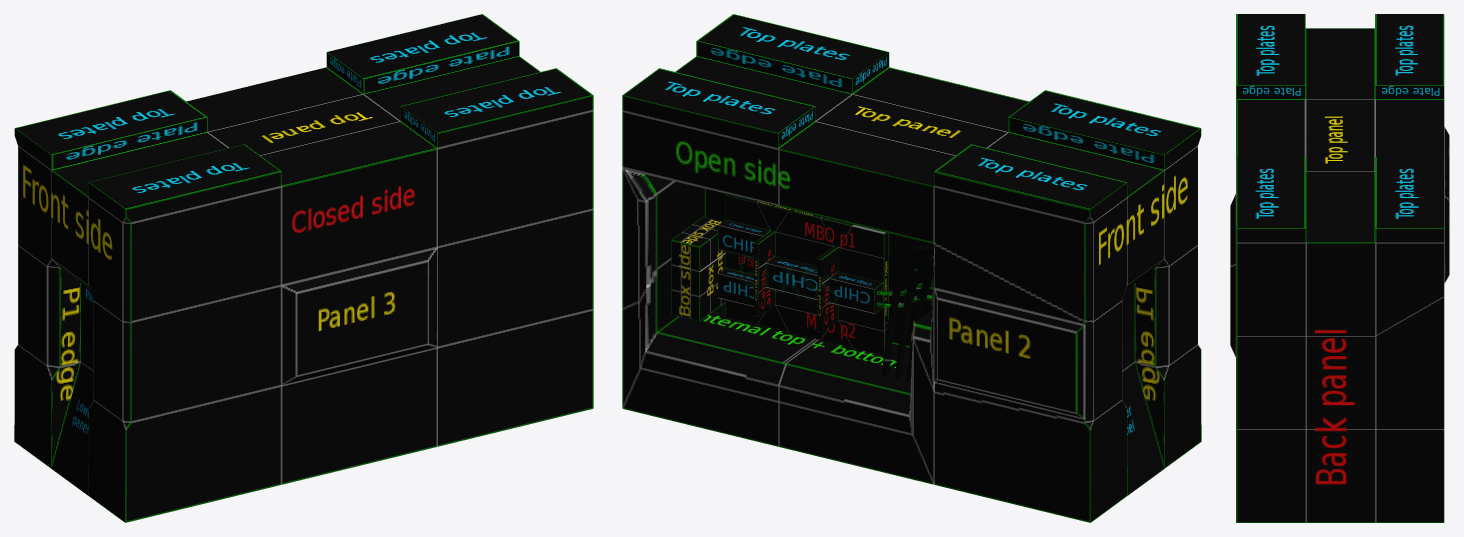
File: computer.FBX
3 views of the same model, side by side, from view 1: azimuth 30°, elevation 25°; view 2: azimuth 150°, elevation 25°; view 3: azimuth 270°, elevation 25° (orthographic). The views are drawn at different scales.
Parts seen in each view (by area): view 1: Box001; view 2: Box001; view 3: Box001.
Part boxes in pixels (left/top/right/bottom): Box001: left=14, top=14, right=593, bottom=522; Box001: left=622, top=14, right=1201, bottom=522; Box001: left=1230, top=14, right=1449, bottom=522.
Size of the model in its own units: 50.42 by 21.8 by 32.26.
Materials: 4 (4 with a texture image).
